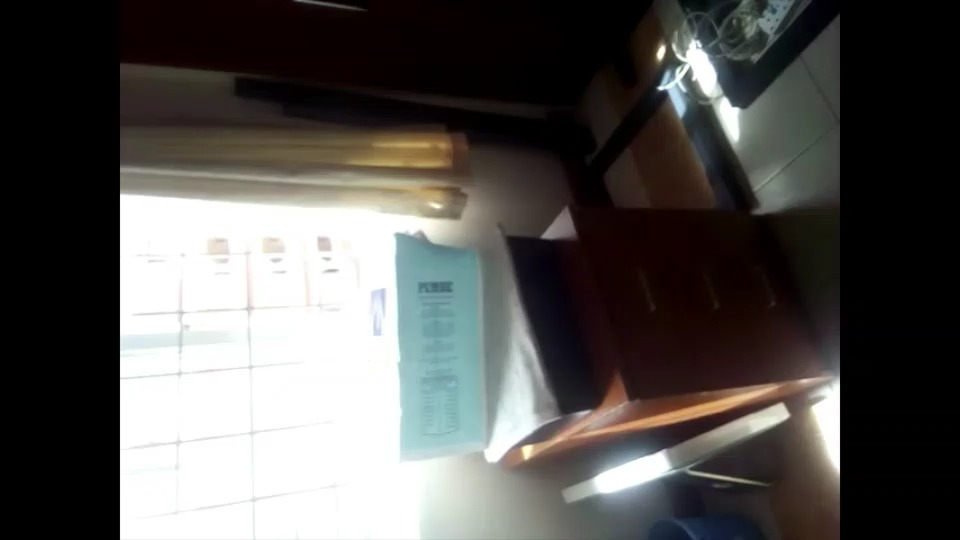wheat_flour_blue_label: (369, 228, 485, 447)
